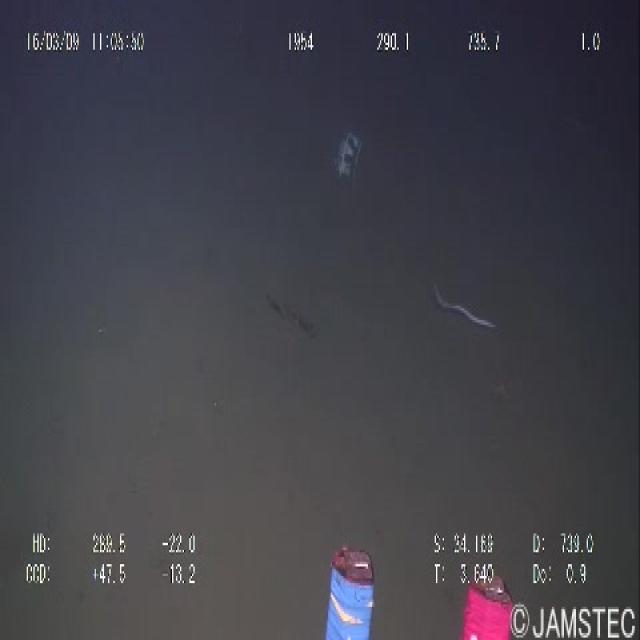plastic: (320, 104, 365, 199)
